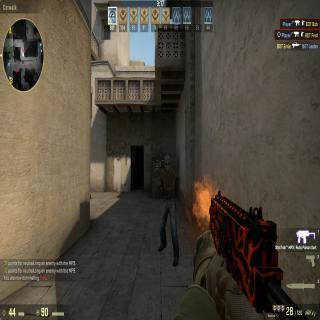T-Body: (155, 152, 182, 265)
T-Head: (161, 154, 172, 174)
